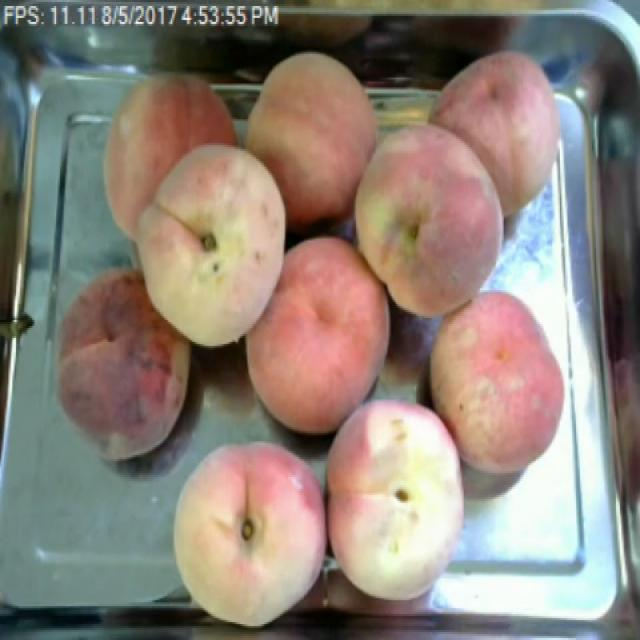Fruit: (232, 223, 407, 449), (125, 135, 300, 358), (337, 113, 516, 330), (32, 254, 205, 473), (324, 384, 481, 614), (412, 276, 581, 487), (159, 427, 329, 636), (424, 39, 573, 232), (93, 62, 248, 246), (238, 44, 390, 230)
